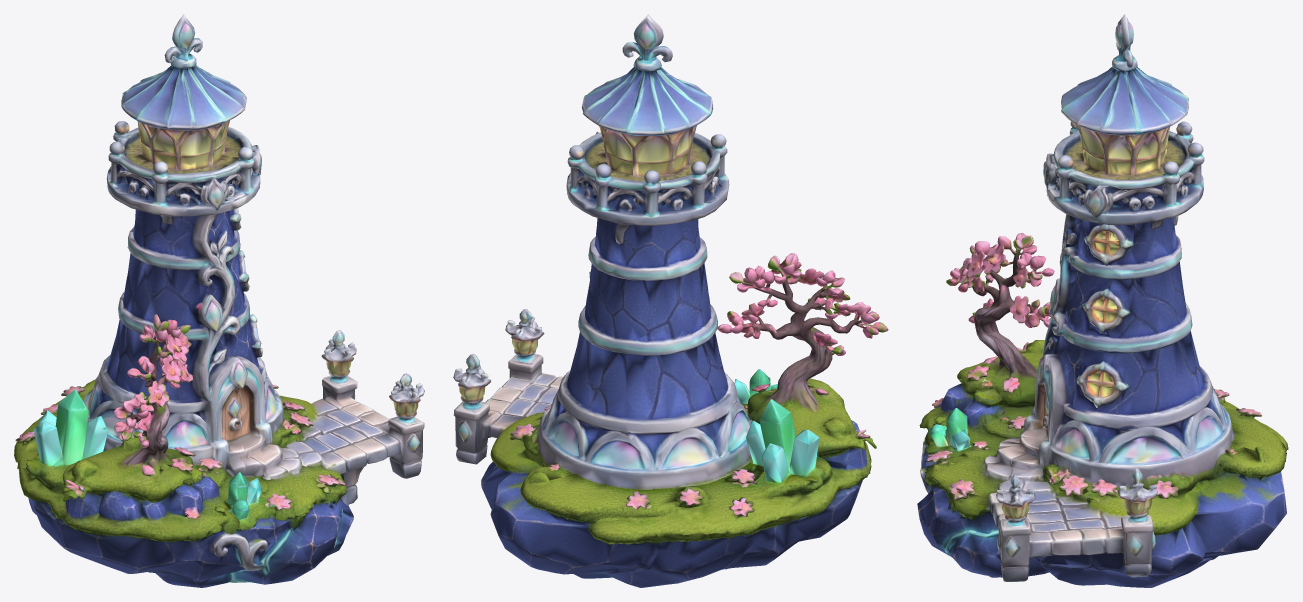
Rendered from lighthouse.medium.glb.
3 views of the same model, side by side, from view 1: azimuth 30°, elevation 25°; view 2: azimuth 150°, elevation 25°; view 3: azimuth 270°, elevation 25° (orthographic). The views are drawn at different scales.
Visible parts, largest first — view 1: tripo_node_9ee7a073-8cc8-475e-bbab-c5927ba8e391; view 2: tripo_node_9ee7a073-8cc8-475e-bbab-c5927ba8e391; view 3: tripo_node_9ee7a073-8cc8-475e-bbab-c5927ba8e391.
Part boxes in pixels (box(x1,y1,x2,y2)): tripo_node_9ee7a073-8cc8-475e-bbab-c5927ba8e391: box(14, 14, 424, 587); tripo_node_9ee7a073-8cc8-475e-bbab-c5927ba8e391: box(453, 14, 888, 587); tripo_node_9ee7a073-8cc8-475e-bbab-c5927ba8e391: box(917, 14, 1288, 587).
Size of the model in its own units: 11.27 by 16 by 9.82.
1 material, 1 textured.
